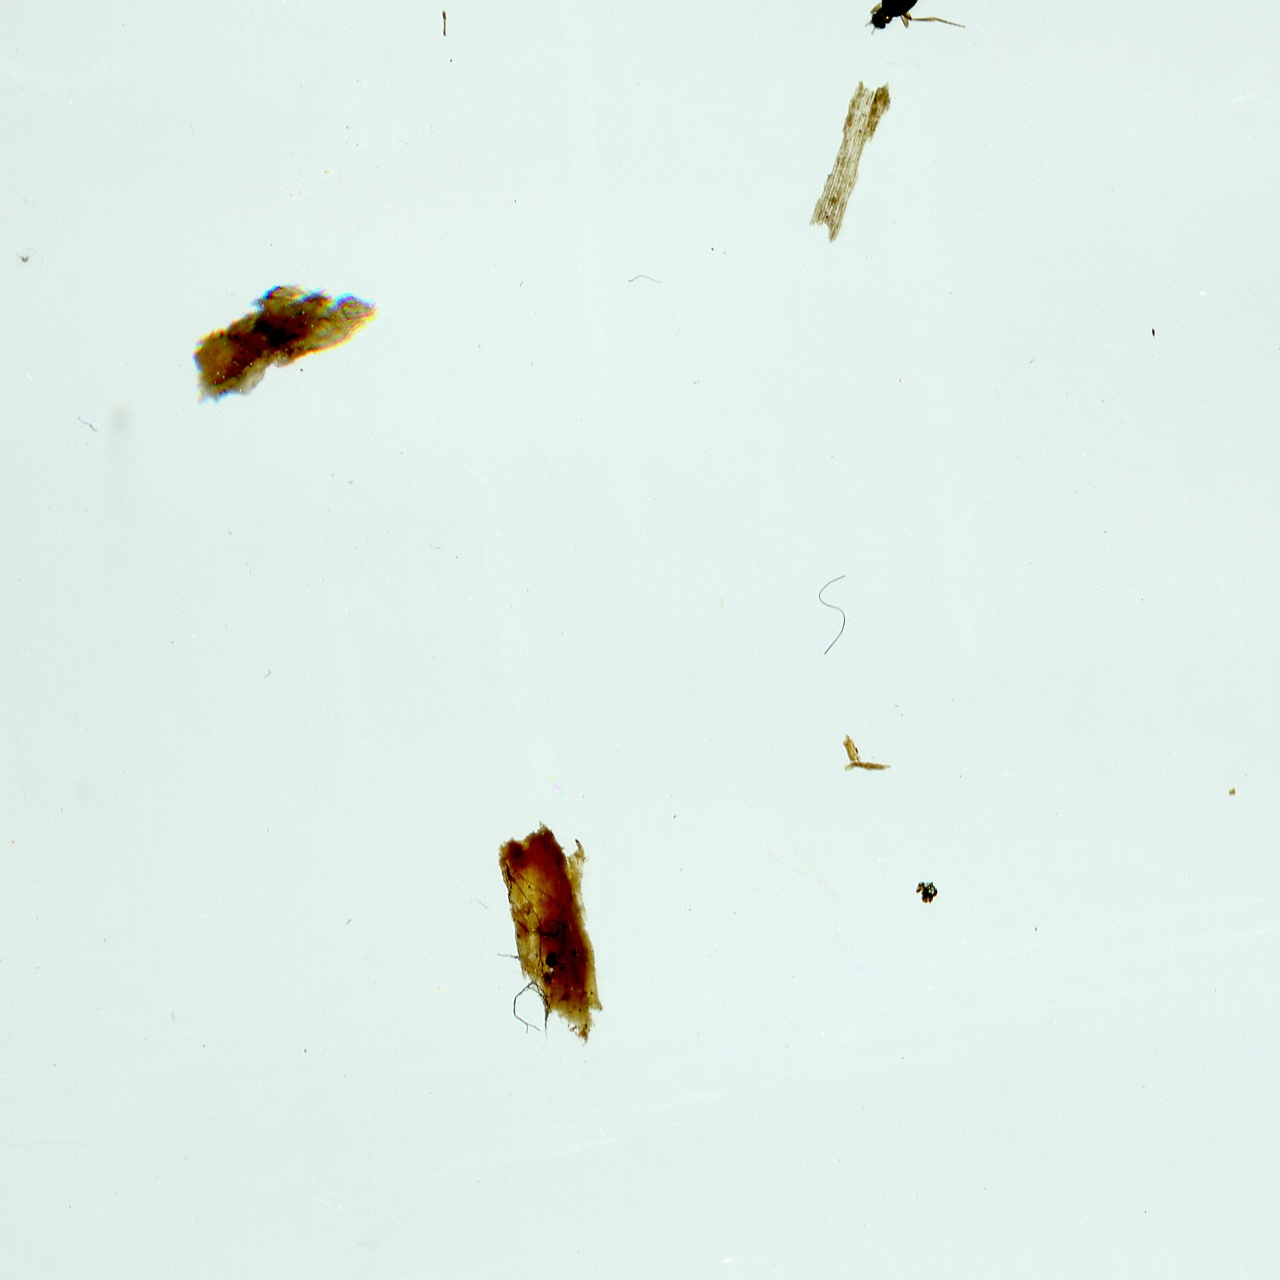arthropod: (856, 0, 972, 49)
